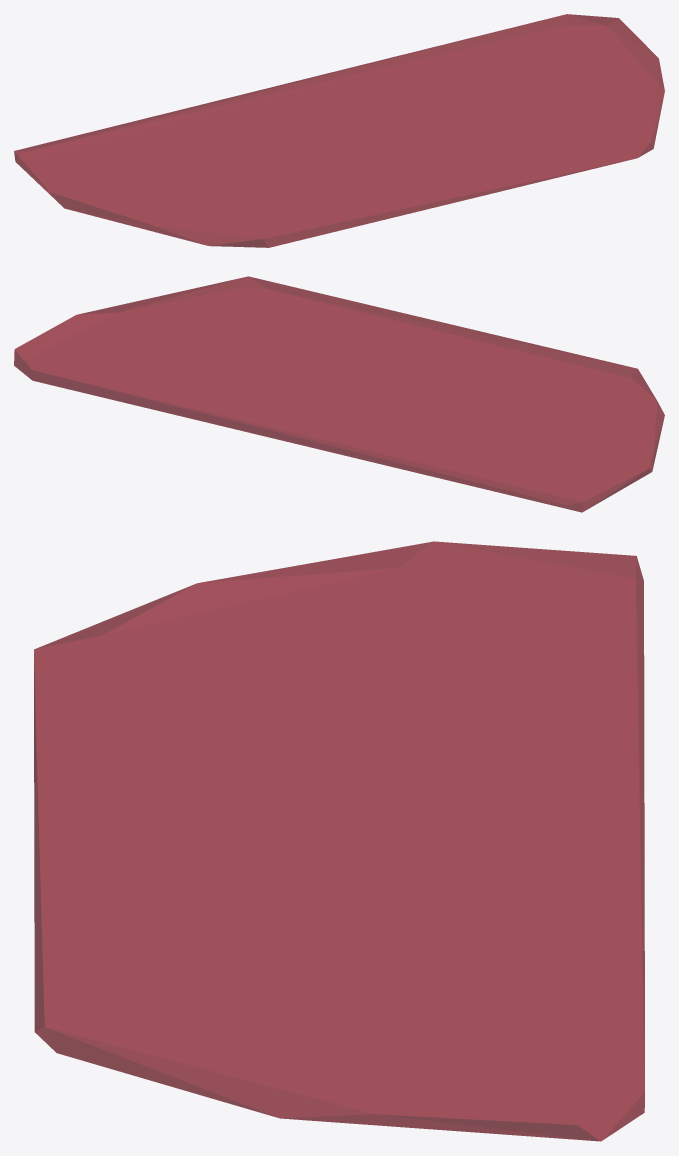
3 renders of one model, top to bottom at view 1: azimuth 30°, elevation 25°; view 2: azimuth 150°, elevation 25°; view 3: azimuth 270°, elevation 25°, orthographic. The views are drawn at different scales.
Visible parts, largest first — view 1: Shape_IndexedFaceSet.048_Shape_IndexedFaceSet.11126; view 2: Shape_IndexedFaceSet.048_Shape_IndexedFaceSet.11126; view 3: Shape_IndexedFaceSet.048_Shape_IndexedFaceSet.11126.
Part boxes in pixels (x1,y1,x2,y2): Shape_IndexedFaceSet.048_Shape_IndexedFaceSet.11126: [14, 14, 664, 247]; Shape_IndexedFaceSet.048_Shape_IndexedFaceSet.11126: [14, 276, 664, 512]; Shape_IndexedFaceSet.048_Shape_IndexedFaceSet.11126: [34, 541, 644, 1141].
Size of the model in its own units: 0.807 by 0.0139 by 0.3571.
